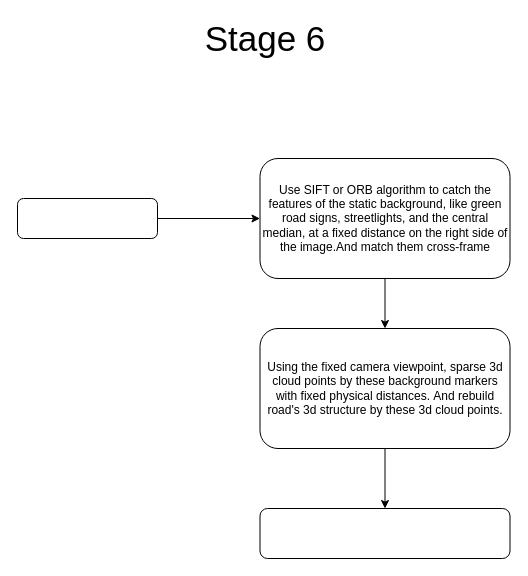
This 528x576 diagram has some shape labels left out. Each missing label, with the centre of its shape:
Input original video: the point at 87,218
Output a 3D cloud point file: the point at 384,533
